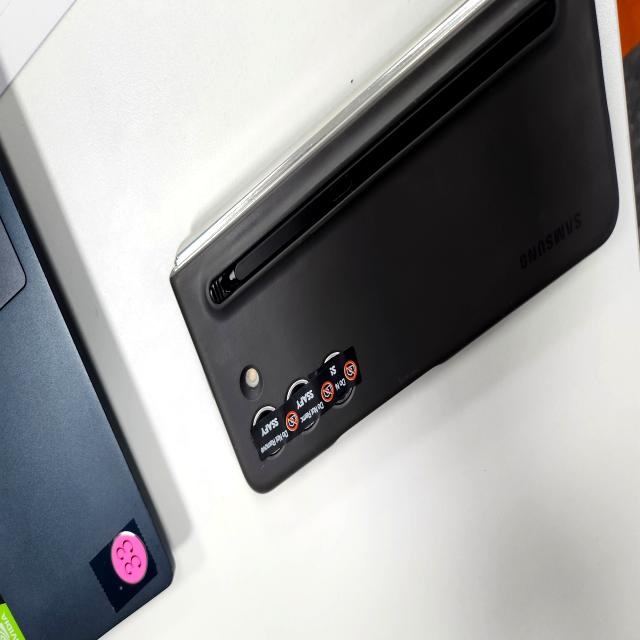phone: (170, 0, 619, 493)
sticker: (310, 351, 363, 404), (250, 402, 300, 451), (282, 386, 332, 435)
